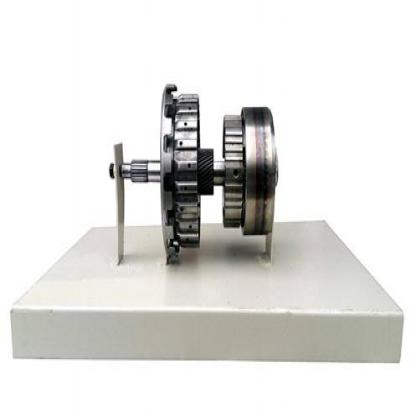FOD: (220, 109, 245, 233)
